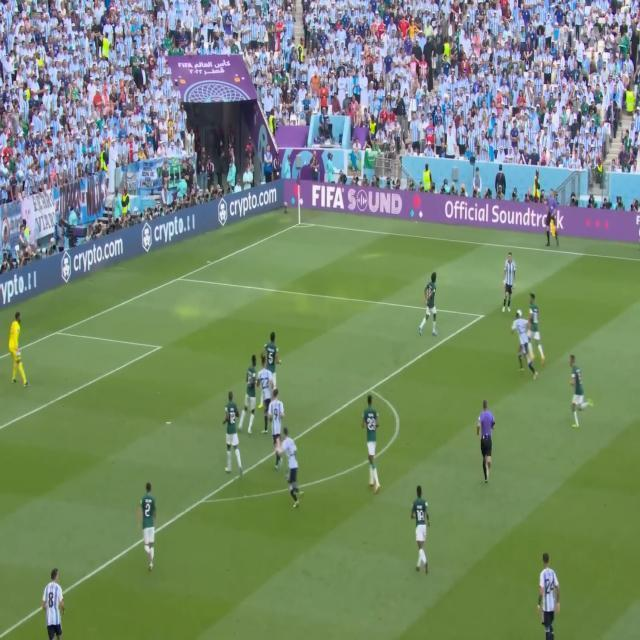player: (363, 384, 385, 494), (411, 479, 432, 585), (223, 386, 245, 485), (537, 554, 562, 639), (140, 476, 161, 576), (279, 428, 304, 511), (567, 350, 594, 426), (265, 387, 288, 474), (239, 351, 261, 441), (42, 561, 67, 640), (9, 310, 32, 391), (418, 266, 441, 345), (512, 311, 535, 379), (263, 326, 280, 406), (530, 292, 547, 366), (504, 248, 519, 314)
